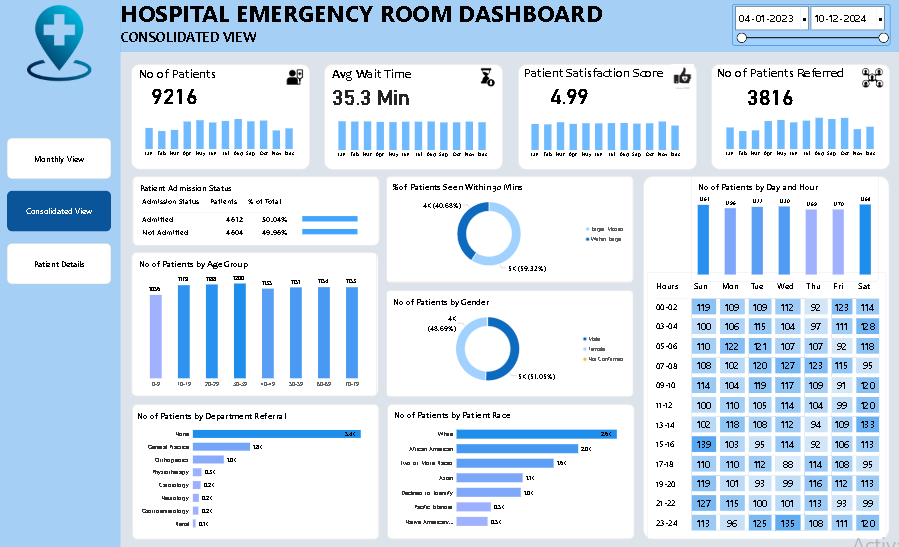

The dashboard page shown, as its layout file describes it:
{"tool":"powerbi","page":{"name":"Consolidated View","canvas":[2300,1400],"ordinal":1},"visuals":[{"type":"shape","box":[1642.5,455,627.5,925],"z":0},{"type":"shape","box":[987.5,455,630,272.5],"z":1000},{"type":"shape","box":[987.5,745,630,272.5],"z":2000},{"type":"shape","box":[990,1035,630,345],"z":3000},{"type":"shape","box":[340,1035,630,345],"z":4000},{"type":"shape","box":[340,455,630,177.5],"z":5000},{"type":"shape","box":[337.3,170.3,456.1,269],"z":6000},{"type":"shape","box":[0,0,312,1400],"z":7000},{"type":"shape","box":[311.4,0,1988.6,140],"z":8000},{"type":"textbox","box":[311.4,0,1305.7,80],"z":9000},{"type":"textbox","box":[311.4,80,420,51.4],"z":10000},{"type":"cardVisual","fields":{"Data":["Hospital ER_Data.No of Patients"]},"box":[372.6,215.2,154.2,70.7],"z":11000},{"type":"slicer","fields":{"Values":["Date Table.Date"]},"box":[1868.6,17.1,402.9,105.7],"z":12000},{"type":"shape","box":[829.8,170,456.1,269.8],"z":14000},{"type":"shape","box":[1814.9,170,456.1,269],"z":15000},{"type":"shape","box":[1322.4,170,456.1,269.8],"z":16000},{"type":"textbox","box":[360,175,228.6,45],"z":17000},{"type":"columnChart","fields":{"Y":["Hospital ER_Data.No of Patients"],"Category":["Date Table.Month Name"]},"box":[346.9,282.7,433.7,144.6],"z":18000},{"type":"cardVisual","fields":{"Data":["Hospital ER_Data.Avg Satisfaction Score"]},"box":[1378.1,215.2,154.2,70.7],"z":20000},{"type":"textbox","box":[850,175,228.6,45],"z":21000},{"type":"columnChart","fields":{"Y":["Avg(Hospital ER_Data.Patient Waittime)"],"Category":["Date Table.Month Name"]},"box":[838.4,285.9,433.7,144.6],"z":22000},{"type":"cardVisual","fields":{"Data":["Hospital ER_Data.Avg Wait Time"]},"box":[838.4,218.4,228.1,70.7],"z":23000},{"type":"textbox","box":[1339.5,173.5,408,45],"z":24000},{"type":"columnChart","fields":{"Y":["Hospital ER_Data.Avg Satisfaction Score"],"Category":["Date Table.Month Name"]},"box":[1329.9,285.9,433.7,144.6],"z":25000},{"type":"cardVisual","fields":{"Data":["Hospital ER_Data.No of Patients Referred"]},"box":[1888.8,218.4,154.2,70.7],"z":26000},{"type":"textbox","box":[1831.4,174.3,348.6,42.9],"z":27000},{"type":"columnChart","fields":{"Category":["Date Table.Month Name"],"Y":["Hospital ER_Data.No of Patients Referred"]},"box":[1824.6,282.7,433.7,144.6],"z":28000},{"type":"pivotTable","title":"Patient Admission Status","fields":{"Rows":["Hospital ER_Data.Admission Status"],"Values":["Hospital ER_Data.No of Patients","Divide(Hospital ER_Data.No of Patients, ScopedEval(Hospital ER_Data.No of Patients, []))"]},"box":[342.5,455,630,177.5],"z":29000},{"type":"barChart","fields":{"Y":["Hospital ER_Data.No of Patients"],"Category":["Hospital ER_Data.Admission Status"]},"box":[757.5,520,215,120],"z":30000},{"type":"shape","box":[337.5,650,630,367.5],"z":31000},{"type":"clusteredColumnChart","title":"No of Patients by Age Group","fields":{"Category":["Hospital ER_Data.Age Group"],"Y":["Hospital ER_Data.No of Patients"]},"box":[340,650,622.5,367.5],"z":32000},{"type":"clusteredBarChart","fields":{"Category":["Hospital ER_Data.Department Referral"],"Y":["Hospital ER_Data.No of Patients"]},"box":[335,1035,632.5,345],"z":33000},{"type":"donutChart","title":"% of Patients Seen Within 30 Mins","fields":{"Y":["Hospital ER_Data.No of Patients"],"Category":["Hospital ER_Data.Waiting Status"]},"box":[988.6,454.3,631.4,271.4],"z":34000},{"type":"donutChart","title":"No of Patients by Gender","fields":{"Y":["Hospital ER_Data.No of Patients"],"Category":["Hospital ER_Data.Patient Gender"]},"box":[988.6,745.7,631.4,271.4],"z":35000},{"type":"clusteredBarChart","fields":{"Y":["Hospital ER_Data.No of Patients"],"Category":["Hospital ER_Data.Patient Race"]},"box":[990,1034.3,631.4,345.7],"z":36000},{"type":"pivotTable","fields":{"Rows":["Hospital ER_Data.Waiting Interval"],"Columns":["Date Table.Day Name"],"Values":["Hospital ER_Data.No of Patients"]},"box":[1651.4,700,608.6,680],"z":37000},{"type":"columnChart","title":"No of Patients by Day and Hour","fields":{"Category":["Date Table.Day Name"],"Y":["Hospital ER_Data.No of Patients"]},"box":[1762.9,454.3,477.1,271.4],"z":38000},{"type":"image","box":[22.9,20,265.7,194.3],"z":39000},{"type":"image","box":[731.4,174.3,48.6,60],"z":40000},{"type":"image","box":[1222.9,174.3,48.6,62.9],"z":41000},{"type":"image","box":[1705.7,171.4,74.3,62.9],"z":42000},{"type":"image","box":[2200,177.1,54.3,54.3],"z":43000},{"type":"pageNavigator","box":[22.9,360,265.7,374.3],"z":43001}]}

Visuals, with their boxes in screenshot pixels (x1, y1, x2, y2), scaled from the page's 2300x1400 canvas onto the 899x547 screenshot:
shape: (left=642, top=178, right=887, bottom=539)
shape: (left=386, top=178, right=632, bottom=284)
shape: (left=386, top=291, right=632, bottom=398)
shape: (left=387, top=404, right=633, bottom=539)
shape: (left=133, top=404, right=379, bottom=539)
shape: (left=133, top=178, right=379, bottom=247)
shape: (left=132, top=67, right=310, bottom=172)
shape: (left=0, top=0, right=122, bottom=546)
shape: (left=122, top=0, right=898, bottom=55)
textbox: (left=122, top=0, right=632, bottom=31)
textbox: (left=122, top=31, right=286, bottom=51)
cardVisual - Hospital ER_Data.No of Patients: (left=146, top=84, right=206, bottom=112)
slicer - Date Table.Date: (left=730, top=7, right=888, bottom=48)
shape: (left=324, top=66, right=503, bottom=172)
shape: (left=709, top=66, right=888, bottom=172)
shape: (left=517, top=66, right=695, bottom=172)
textbox: (left=141, top=68, right=230, bottom=86)
columnChart - Hospital ER_Data.No of Patients x Date Table.Month Name: (left=136, top=110, right=305, bottom=167)
cardVisual - Hospital ER_Data.Avg Satisfaction Score: (left=539, top=84, right=599, bottom=112)
textbox: (left=332, top=68, right=422, bottom=86)
columnChart - Avg(Hospital ER_Data.Patient Waittime) x Date Table.Month Name: (left=328, top=112, right=497, bottom=168)
cardVisual - Hospital ER_Data.Avg Wait Time: (left=328, top=85, right=417, bottom=113)
textbox: (left=524, top=68, right=683, bottom=85)
columnChart - Hospital ER_Data.Avg Satisfaction Score x Date Table.Month Name: (left=520, top=112, right=689, bottom=168)
cardVisual - Hospital ER_Data.No of Patients Referred: (left=738, top=85, right=799, bottom=113)
textbox: (left=716, top=68, right=852, bottom=85)
columnChart - Date Table.Month Name x Hospital ER_Data.No of Patients Referred: (left=713, top=110, right=883, bottom=167)
"Patient Admission Status" pivotTable: (left=134, top=178, right=380, bottom=247)
barChart - Hospital ER_Data.No of Patients x Hospital ER_Data.Admission Status: (left=296, top=203, right=380, bottom=250)
shape: (left=132, top=254, right=378, bottom=398)
"No of Patients by Age Group" clusteredColumnChart: (left=133, top=254, right=376, bottom=398)
clusteredBarChart - Hospital ER_Data.Department Referral x Hospital ER_Data.No of Patients: (left=131, top=404, right=378, bottom=539)
"% of Patients Seen Within 30 Mins" donutChart: (left=386, top=178, right=633, bottom=284)
"No of Patients by Gender" donutChart: (left=386, top=291, right=633, bottom=397)
clusteredBarChart - Hospital ER_Data.No of Patients x Hospital ER_Data.Patient Race: (left=387, top=404, right=634, bottom=539)
pivotTable - Hospital ER_Data.Waiting Interval x Date Table.Day Name: (left=645, top=274, right=883, bottom=539)
"No of Patients by Day and Hour" columnChart: (left=689, top=178, right=876, bottom=284)
image: (left=9, top=8, right=113, bottom=84)
image: (left=286, top=68, right=305, bottom=92)
image: (left=478, top=68, right=497, bottom=93)
image: (left=667, top=67, right=696, bottom=92)
image: (left=860, top=69, right=881, bottom=90)
pageNavigator: (left=9, top=141, right=113, bottom=287)
